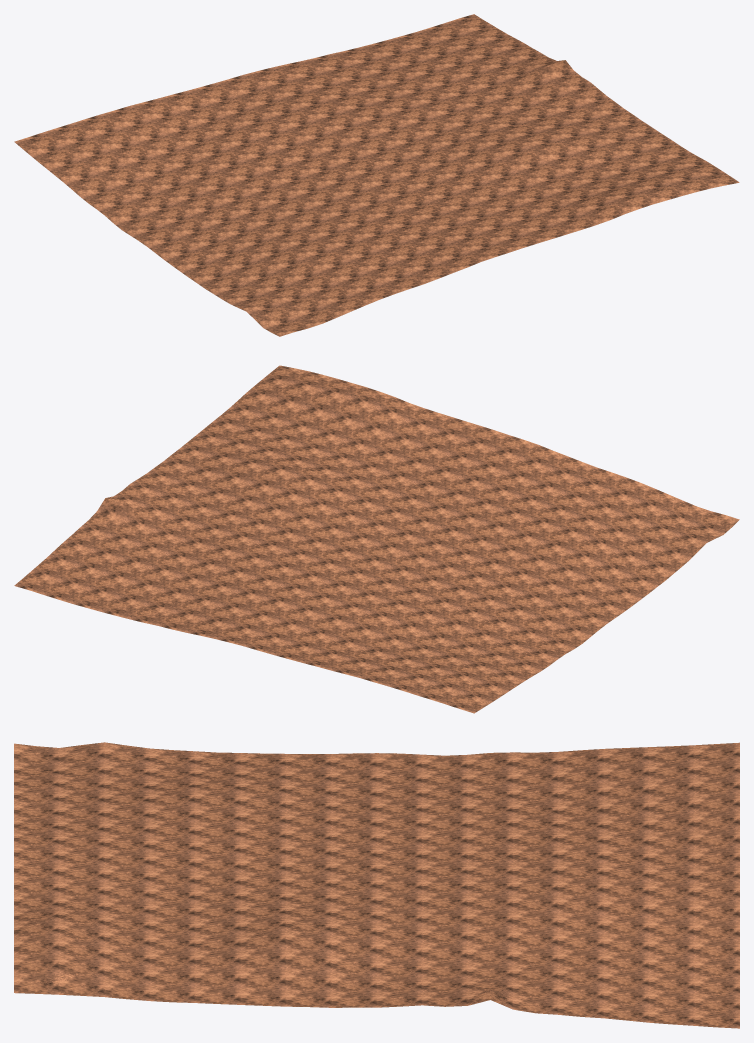
The model's file is terrain_01_12.dae.
3 renders of one model, top to bottom at view 1: azimuth 30°, elevation 25°; view 2: azimuth 150°, elevation 25°; view 3: azimuth 270°, elevation 25°, orthographic. The views are drawn at different scales.
Parts seen in each view (by area): view 1: terrain_01_12-node; view 2: terrain_01_12-node; view 3: terrain_01_12-node.
Part boxes in pixels (x1,y1,x2,y2): terrain_01_12-node: (14, 14, 739, 336); terrain_01_12-node: (14, 365, 739, 713); terrain_01_12-node: (14, 742, 739, 1028).
Bounding box in the file's own units: 128 × 128 × 13.96.
Materials: 1 (1 with a texture image).
